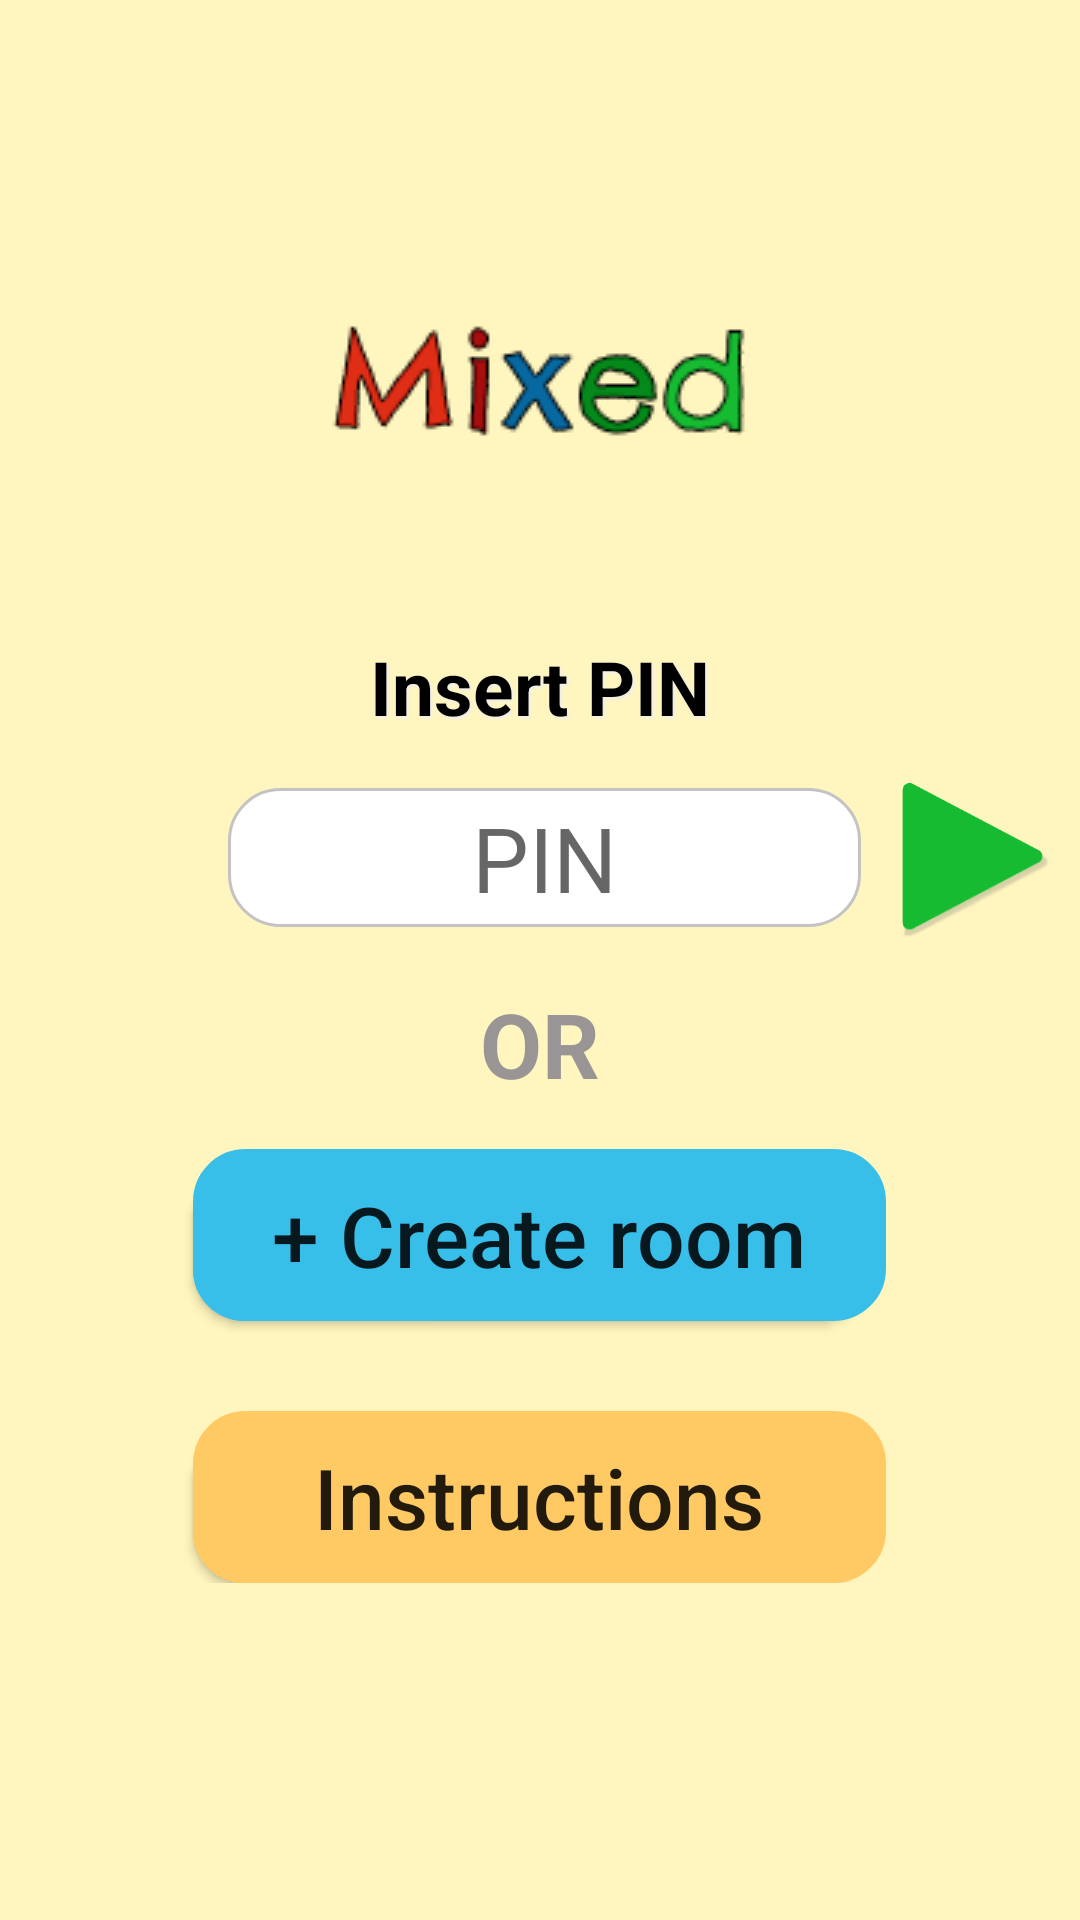

Icon bounding boxes for this 1080 x 1920 phone screenshot, format (x1, y1, x2, y2):
playbtn: (902, 783, 1047, 935)
